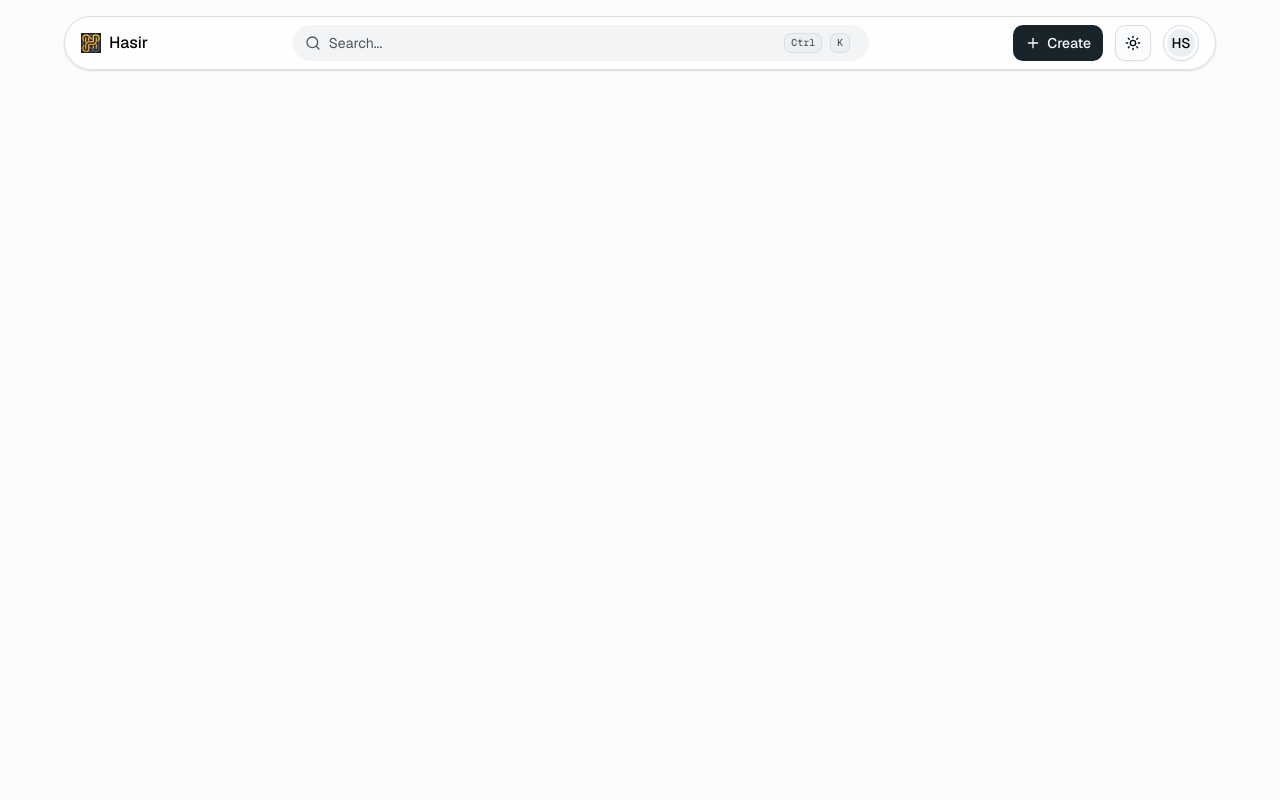
Test: Header › opens the create repository dialog with name and visibility fields
This screenshot has width=1280, height=800.
Click the button "Create" at (1058, 43), box left=1013, top=25, right=1103, bottom=61
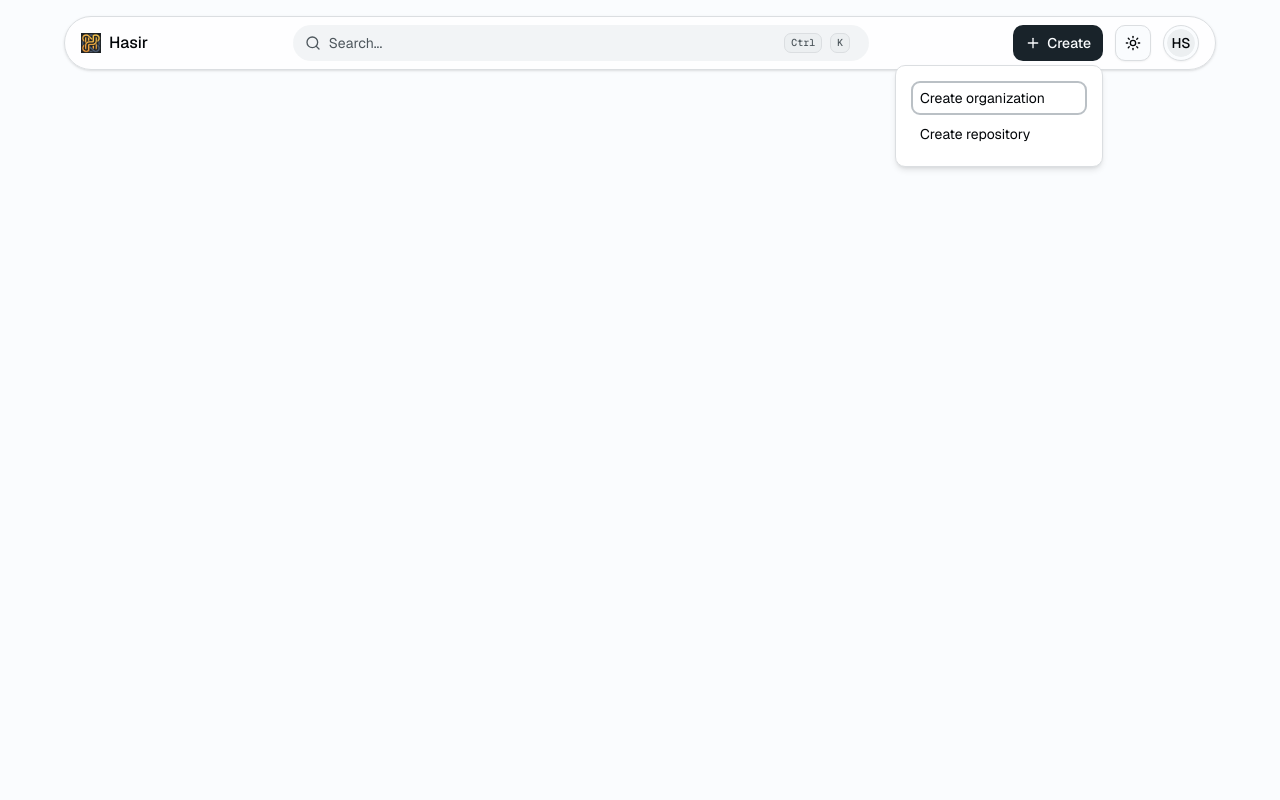
Click the button "Create repository" at (999, 134), box left=912, top=118, right=1086, bottom=150
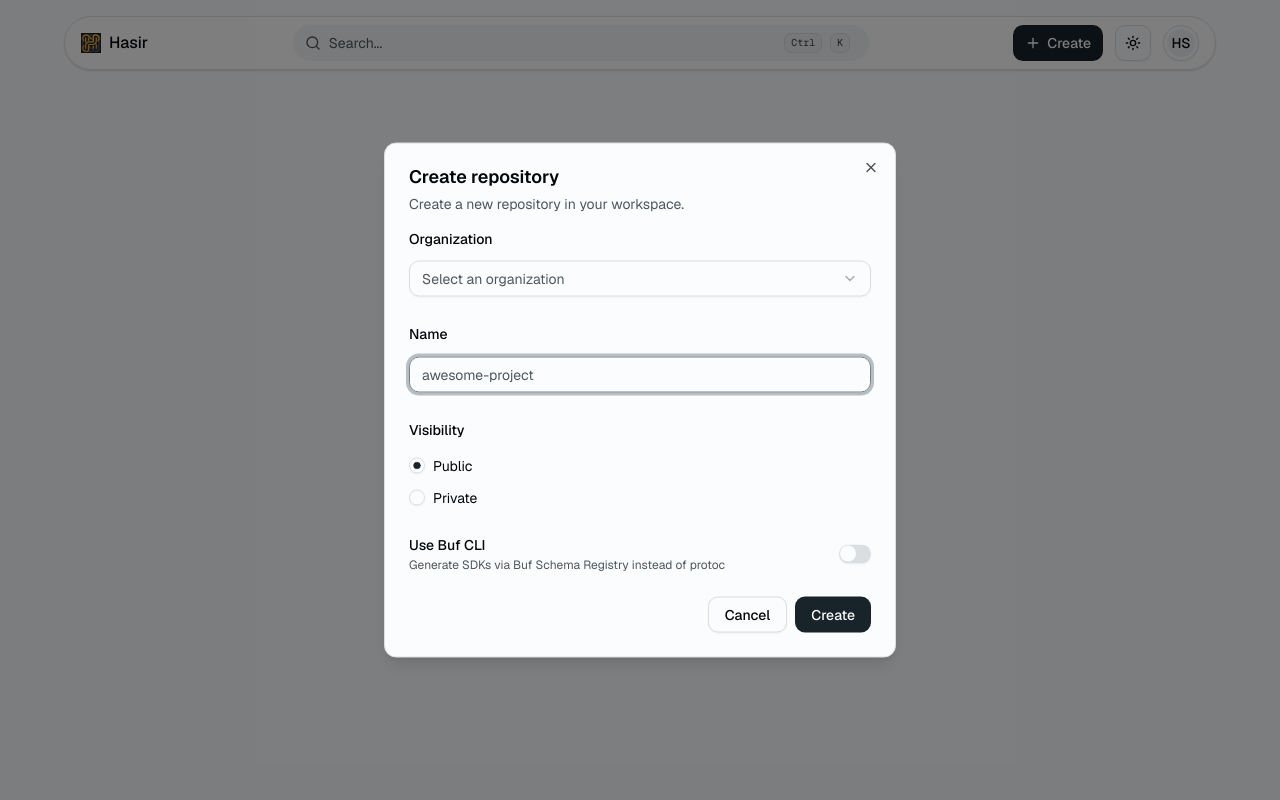
Now the heading "Create repository" is shown, box left=409, top=164, right=559, bottom=188
Now the field labelled "Name" is shown, box left=409, top=356, right=871, bottom=392
Now the radio button named "public" next to "Public" is shown, box left=409, top=457, right=425, bottom=473
